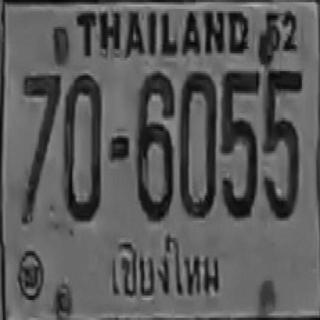N00: (62, 73, 101, 220), (179, 70, 215, 217)
N05: (262, 68, 302, 217), (220, 68, 259, 217)
N06: (136, 71, 173, 218)
N07: (21, 73, 60, 222)
P11: (105, 225, 222, 312)
